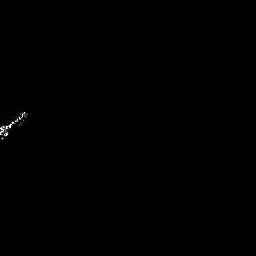ship: (1, 108, 32, 145)
